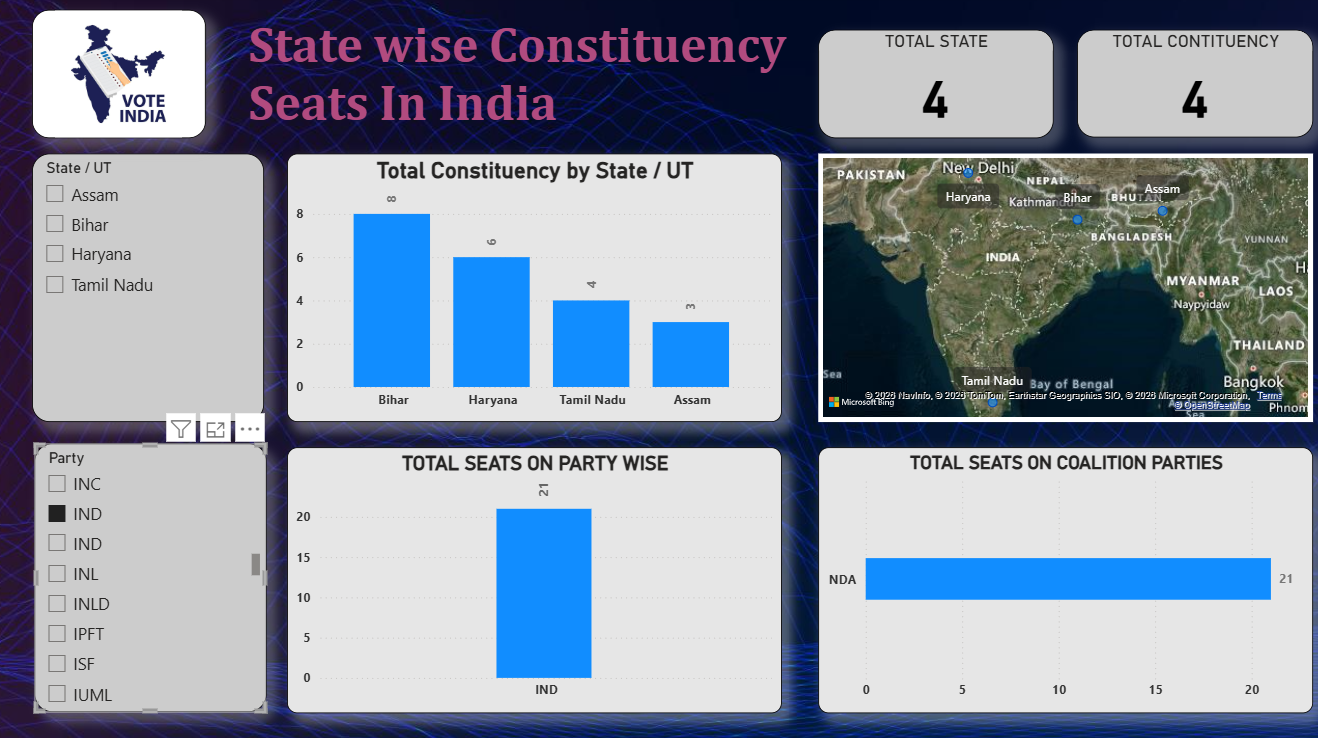

What the dashboard file says about the page in this screenshot:
{"tool":"powerbi","page":{"name":"Page 1","canvas":[1280,720],"ordinal":0},"visuals":[{"type":"card","title":"TOTAL STATE","fields":{"Values":["Count(Data.State / UT)"]},"box":[792.6,32.6,226.8,105],"z":0},{"type":"card","title":"TOTAL CONTITUENCY","fields":{"Values":["Count(Data.Total Constituency)"]},"box":[1042.4,32.6,228,103.8],"z":1000},{"type":"columnChart","title":"Total Constituency by State / UT","fields":{"Category":["Data.State / UT"],"Y":["Sum(Data.Total Constituency)"]},"box":[279.9,152.3,477.5,259.3],"z":2000},{"type":"map","fields":{"Category":["Data.State / UT"]},"box":[793.1,152.3,477.5,259.3],"z":3000},{"type":"columnChart","title":"TOTAL SEATS ON PARTY WISE","fields":{"Y":["Sum(Data.Total Constituency)"],"Category":["Data.Party"]},"box":[279.9,435,477.5,256.6],"z":4000},{"type":"clusteredBarChart","title":"TOTAL SEATS ON COALITION PARTIES","fields":{"Category":["Data.NDA / INDI"],"Y":["Sum(Data.Total Constituency)"]},"box":[793.1,435,477.5,256.6],"z":5000},{"type":"slicer","fields":{"Values":["Data.State / UT"]},"box":[34.3,152.3,223.7,259.3],"z":6000},{"type":"slicer","fields":{"Values":["Data.Party"]},"box":[35.7,432.2,223.7,259.3],"z":7000},{"type":"textbox","box":[237.4,13.7,544.8,138.6],"z":8000},{"type":"image","box":[33.8,13.3,167.7,124.3],"z":9000}]}

Visuals, with their boxes in screenshot pixels (x1, y1, x2, y2), scaled from the page's 1280x720 canvas onto the 1318x738 screenshot:
"TOTAL STATE" card: (left=816, top=33, right=1050, bottom=141)
"TOTAL CONTITUENCY" card: (left=1073, top=33, right=1308, bottom=140)
"Total Constituency by State / UT" columnChart: (left=288, top=156, right=780, bottom=422)
map - Data.State / UT: (left=817, top=156, right=1308, bottom=422)
"TOTAL SEATS ON PARTY WISE" columnChart: (left=288, top=446, right=780, bottom=709)
"TOTAL SEATS ON COALITION PARTIES" clusteredBarChart: (left=817, top=446, right=1308, bottom=709)
slicer - Data.State / UT: (left=35, top=156, right=266, bottom=422)
slicer - Data.Party: (left=37, top=443, right=267, bottom=709)
textbox: (left=244, top=14, right=805, bottom=156)
image: (left=35, top=14, right=207, bottom=141)
